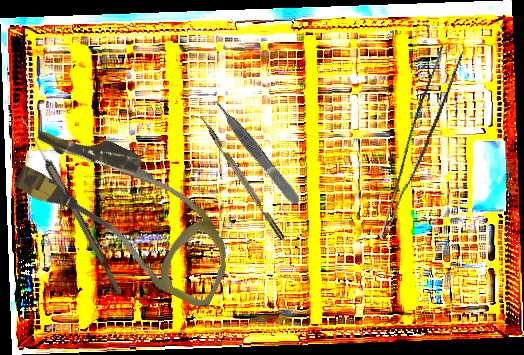Cannula: (1, 111, 255, 312)
Chopper: (189, 107, 286, 246)
Surgical Spoon: (16, 114, 127, 296)
Tissue Forceps: (379, 42, 464, 247), (211, 96, 303, 208)
